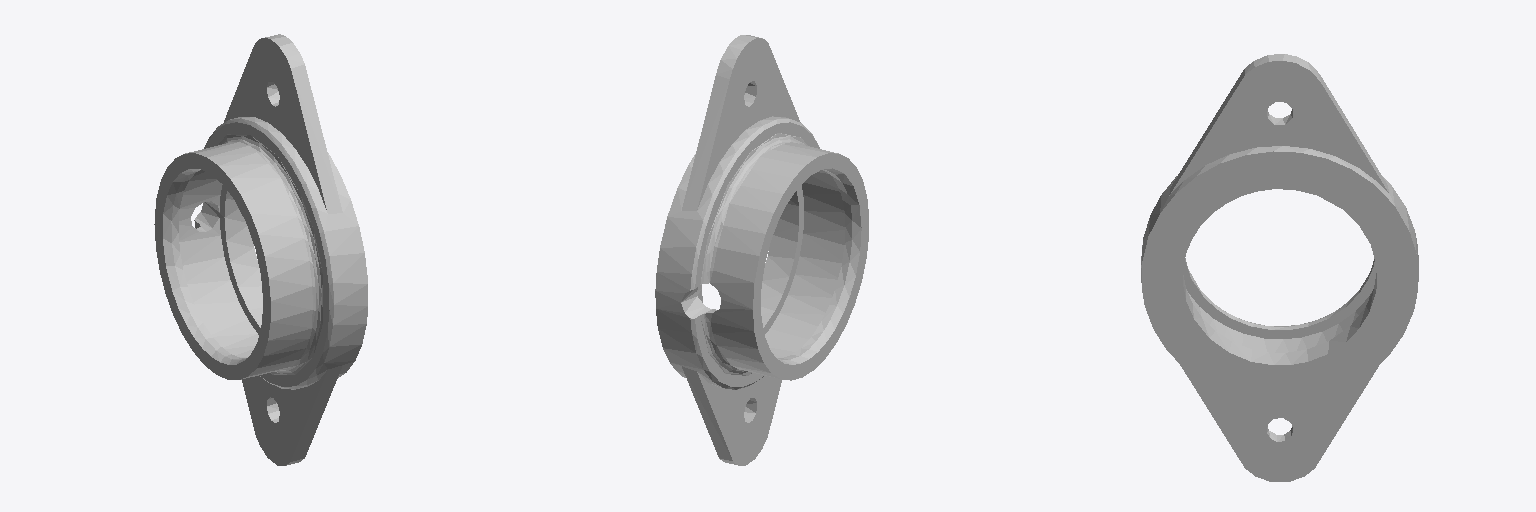
Rendered from oil seal grundbook.obj.
The picture shows the model from 3 angles: view 1: azimuth 30°, elevation 25°; view 2: azimuth 150°, elevation 25°; view 3: azimuth 270°, elevation 25°; orthographic projection.
Visible parts, largest first — view 1: imagetostl_mesh0; view 2: imagetostl_mesh0; view 3: imagetostl_mesh0.
Part boxes in pixels (x1,y1,x2,y2): imagetostl_mesh0: (154,34,367,465); imagetostl_mesh0: (655,35,868,465); imagetostl_mesh0: (1141,54,1418,481).
Bounding box in the file's own units: 60 × 280 × 167.